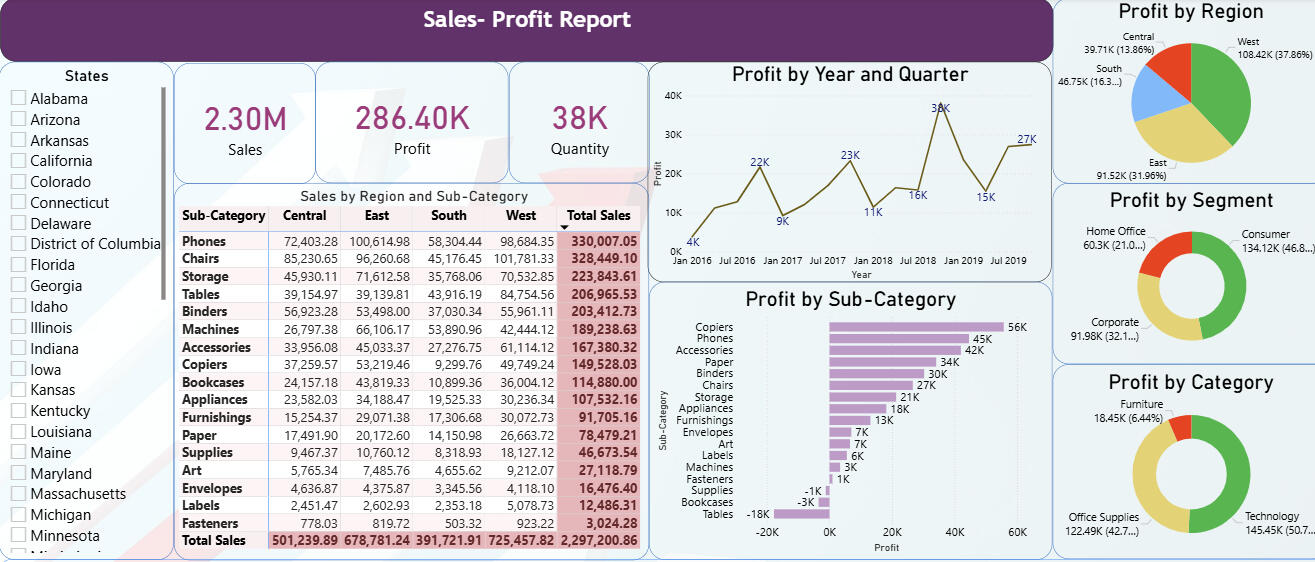

This screenshot's page, from the dashboard's own definition file:
{"tool":"powerbi","page":{"name":"Vis_Master_Task","canvas":[2500,1100],"ordinal":0},"visuals":[{"type":"textbox","box":[11.7,0,1972.2,119],"z":0},{"type":"donutChart","fields":{"Category":["Orders.Category"],"Y":["Sum(Orders.Profit)"]},"box":[1981.9,686.6,516.9,364.8],"z":1000},{"type":"donutChart","fields":{"Y":["Sum(Orders.Profit)"],"Category":["Orders.Segment"]},"box":[1981.9,347.2,518.9,339.4],"z":2000},{"type":"donutChart","fields":{"Y":["Sum(Orders.Profit)"],"Category":["Orders.Region"]},"box":[1981.9,0,516.9,347.2],"z":3000},{"type":"barChart","fields":{"Category":["Orders.Sub-Category"],"Y":["Sum(Orders.Profit)"]},"box":[1227,530.6,754.9,520.8],"z":4000},{"type":"lineChart","fields":{"Category":["Orders.Order Date.Variation.Date Hierarchy.Year","Orders.Order Date.Variation.Date Hierarchy.Quarter","Orders.Order Date.Variation.Date Hierarchy.Month","Orders.Order Date.Variation.Date Hierarchy.Day"],"Y":["Sum(Orders.Profit)"]},"box":[1225.1,119.5,756.4,412.7],"z":5000},{"type":"slicer","title":"States","fields":{"Values":["Orders.State"]},"box":[10.3,120.5,327.1,933],"z":6000},{"type":"pivotTable","title":"Sales by Region and Sub-Category","fields":{"Rows":["Orders.Sub-Category"],"Columns":["Orders.Region"],"Values":["Sum(Orders.Sales)"]},"box":[337.5,347.2,889.5,706.2],"z":7000},{"type":"card","fields":{"Values":["Sum(Orders.Sales)"]},"box":[337.5,120.9,265.3,226.3],"z":8000},{"type":"card","fields":{"Values":["Sum(Orders.Profit)"]},"box":[602.5,120.5,361.5,227.2],"z":9000},{"type":"card","fields":{"Values":["Sum(Orders.Quantity)"]},"box":[964,120.5,263.4,227.2],"z":10000},{"type":"textbox","box":[11.7,1051.4,2487.1,48.8],"z":11000}]}

Visuals, with their boxes in screenshot pixels (x1, y1, x2, y2), scaled from the page's 2500x1100 canvas onto the 1315x562 screenshot:
textbox: 6:0:1044:61
donutChart - Orders.Category x Sum(Orders.Profit): 1042:351:1314:537
donutChart - Sum(Orders.Profit) x Orders.Segment: 1042:177:1314:351
donutChart - Sum(Orders.Profit) x Orders.Region: 1042:0:1314:177
barChart - Orders.Sub-Category x Sum(Orders.Profit): 645:271:1042:537
lineChart - Orders.Order Date.Variation.Date Hierarchy.Year x Orders.Order Date.Variation.Date Hierarchy.Quarter: 644:61:1042:272
"States" slicer: 5:62:177:538
"Sales by Region and Sub-Category" pivotTable: 178:177:645:538
card - Sum(Orders.Sales): 178:62:317:177
card - Sum(Orders.Profit): 317:62:507:178
card - Sum(Orders.Quantity): 507:62:646:178
textbox: 6:537:1314:561
